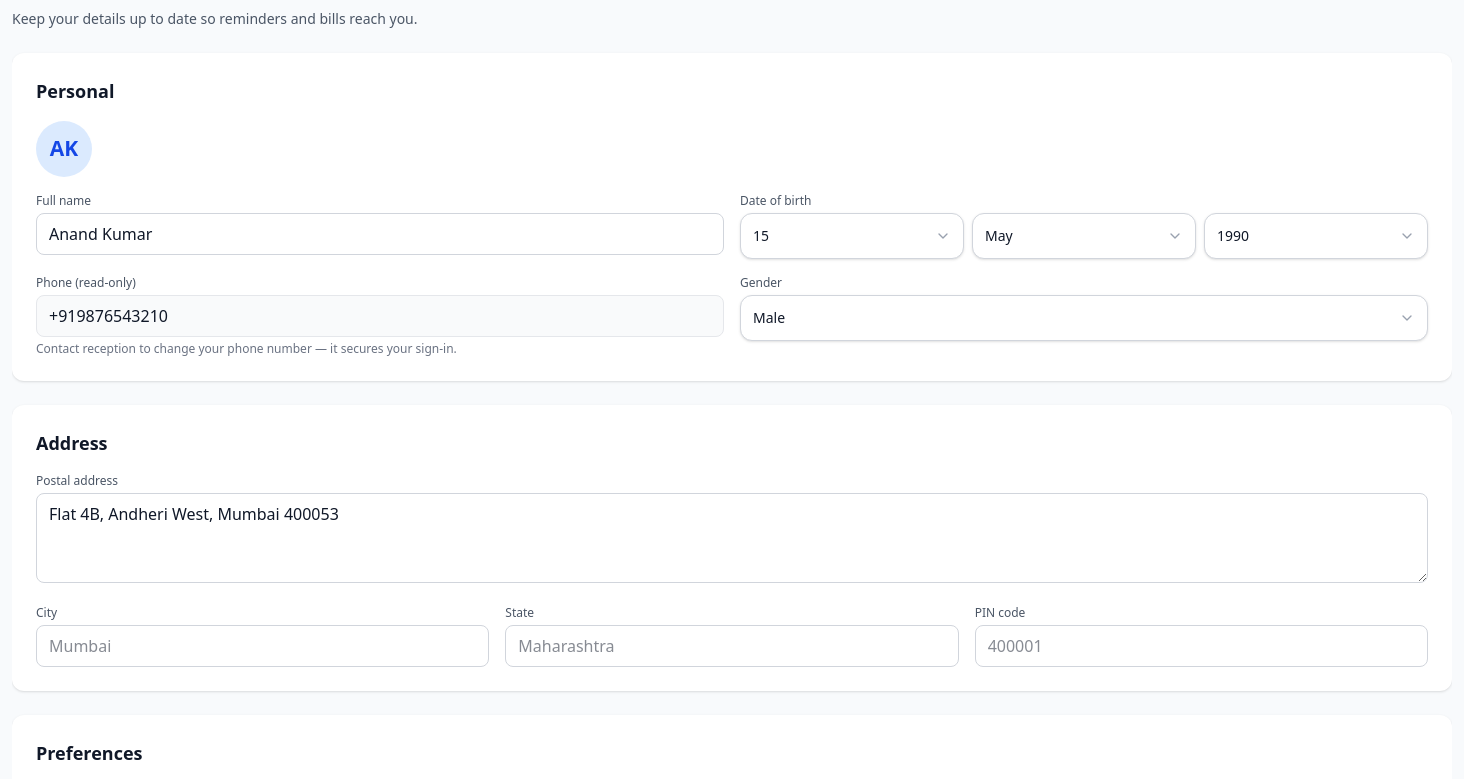
Test case: Patient profile page — gap #5 piece 3e › surfaces server-side field errors inline via the details[] payload
Replace the text in the text box with test id "patient-profile-address-input" with "Some New Address 99" at (732, 538), box 36,493 -> 1428,583
(page scrolled)
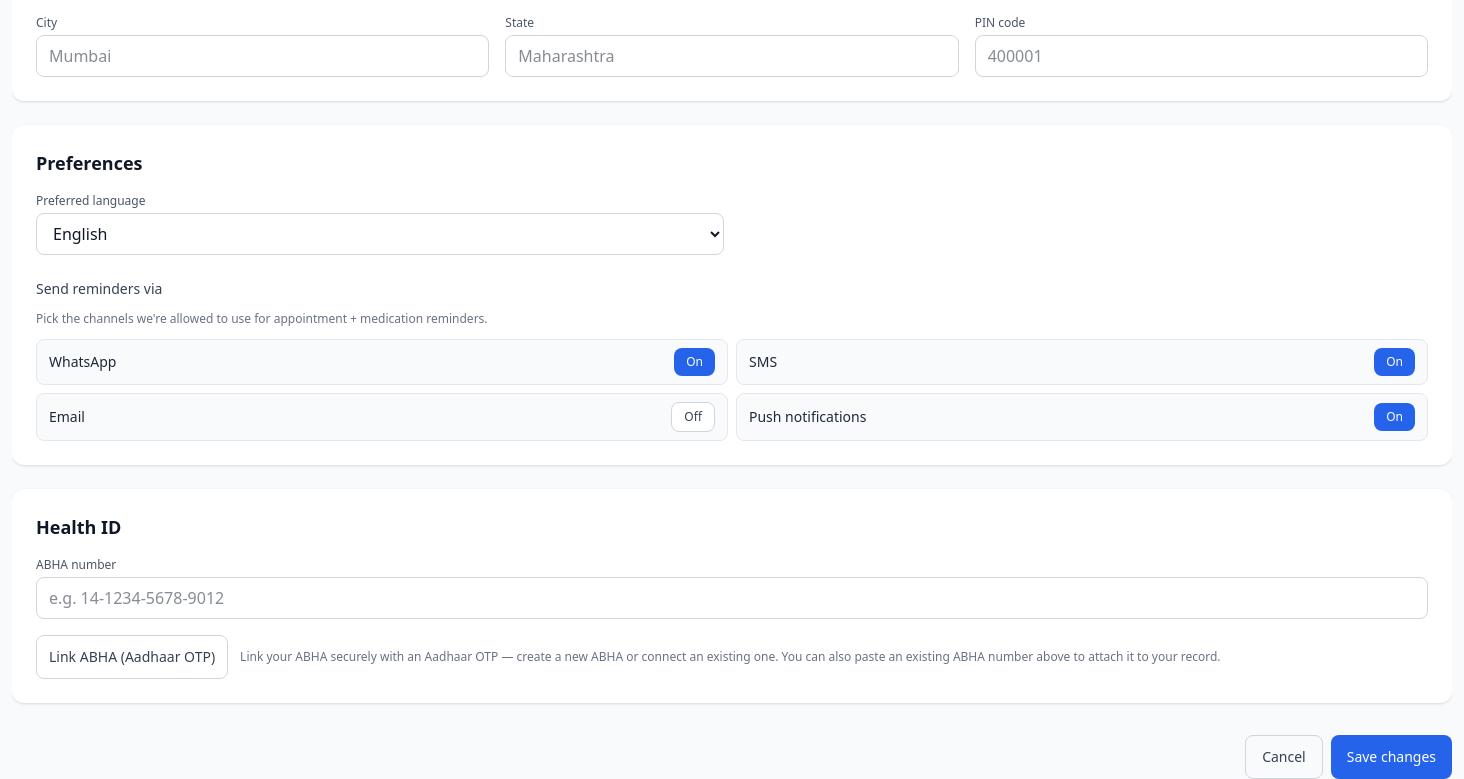
Click the button with test id "patient-profile-save-btn" at (1391, 757), box 1331,735 -> 1452,778
(page scrolled)
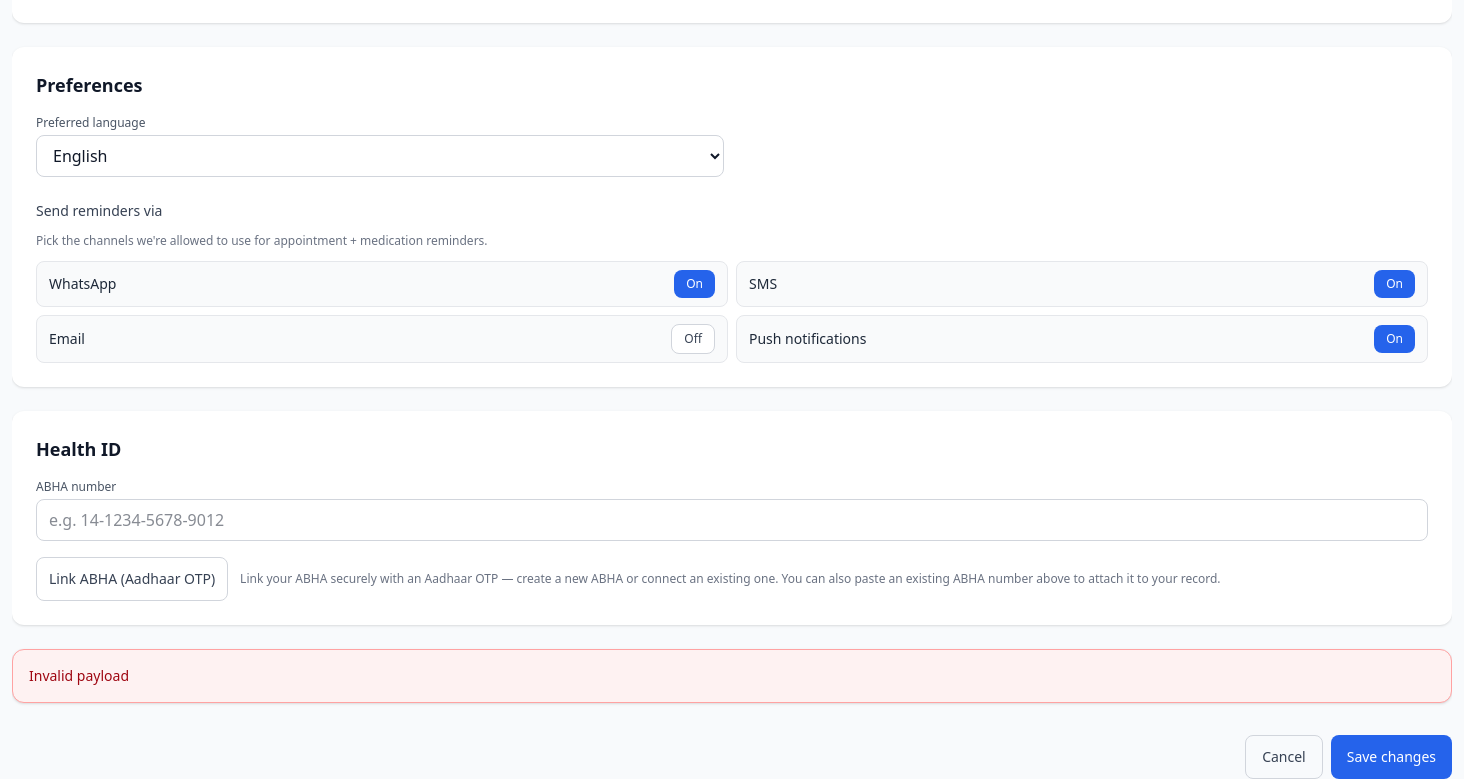
Result: the message "Invalid payload" is shown at 12,649 -> 1452,703
